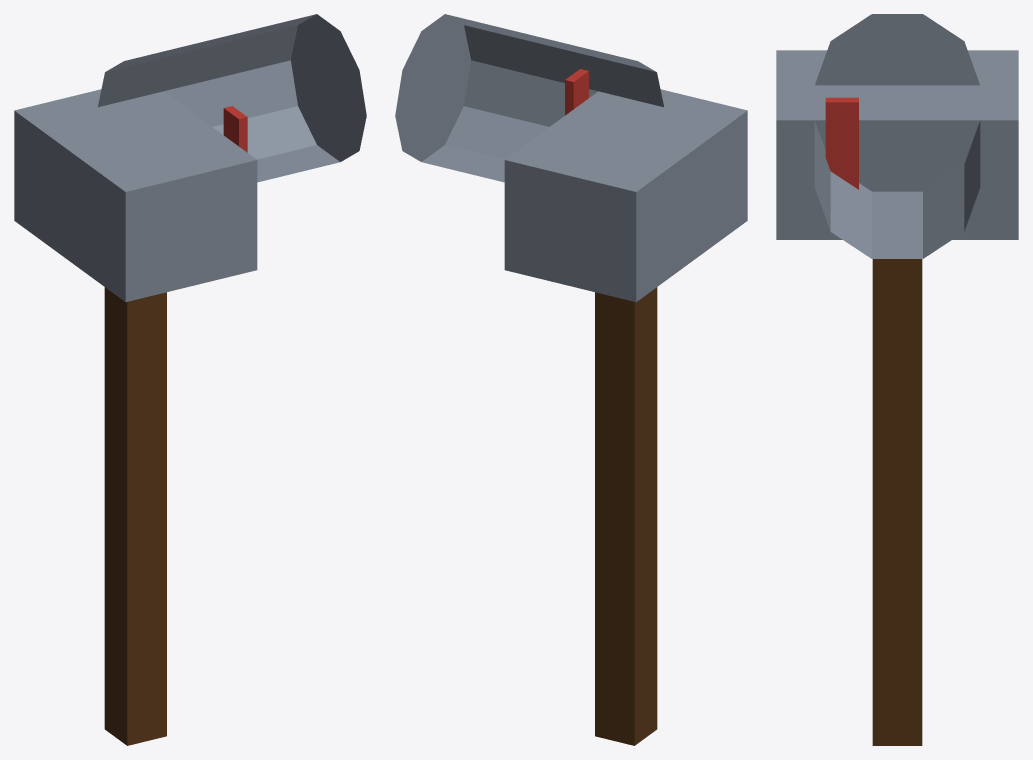
The model's file is mailbox_01.glb.
3 views of the same model, side by side, from view 1: azimuth 30°, elevation 25°; view 2: azimuth 150°, elevation 25°; view 3: azimuth 270°, elevation 25° (orthographic). The views are drawn at different scales.
Visible parts, largest first — view 1: mailbox_01; view 2: mailbox_01; view 3: mailbox_01.
Boxes of the visible parts, x1=… form: mailbox_01: x1=14, y1=14, x2=366, y2=745; mailbox_01: x1=395, y1=14, x2=747, y2=745; mailbox_01: x1=776, y1=14, x2=1018, y2=745.
Bounding box in the file's own units: 0.59 × 1.44 × 0.44.
